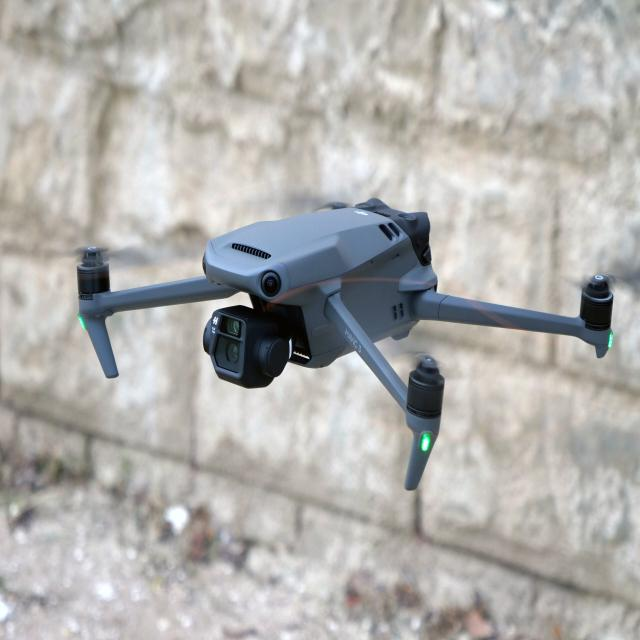drone: (15, 146, 640, 514)
